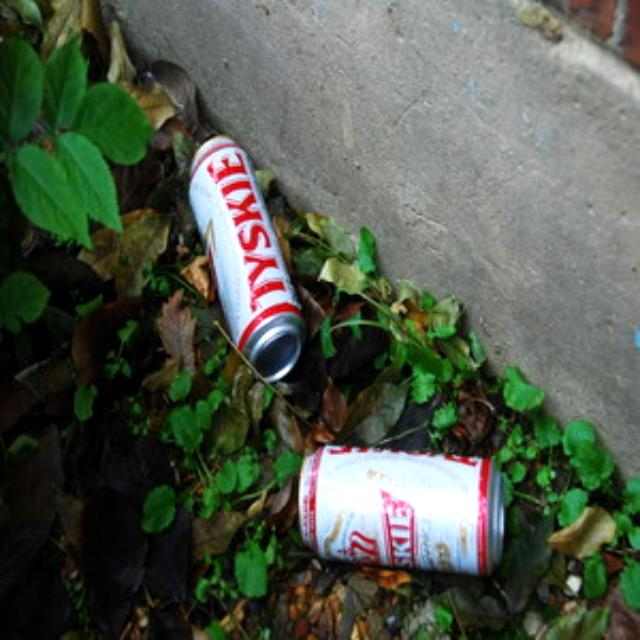Metal: (296, 437, 510, 579), (188, 129, 302, 381)
